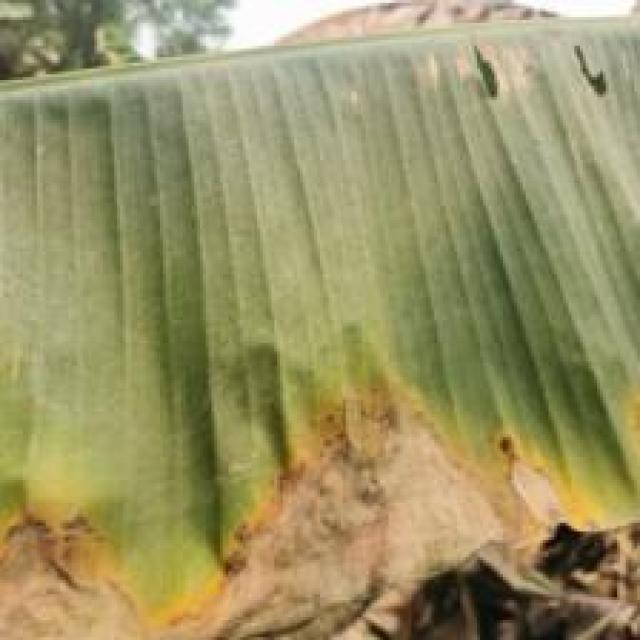Downey_mildrew: (0, 277, 640, 640), (424, 26, 633, 130)
